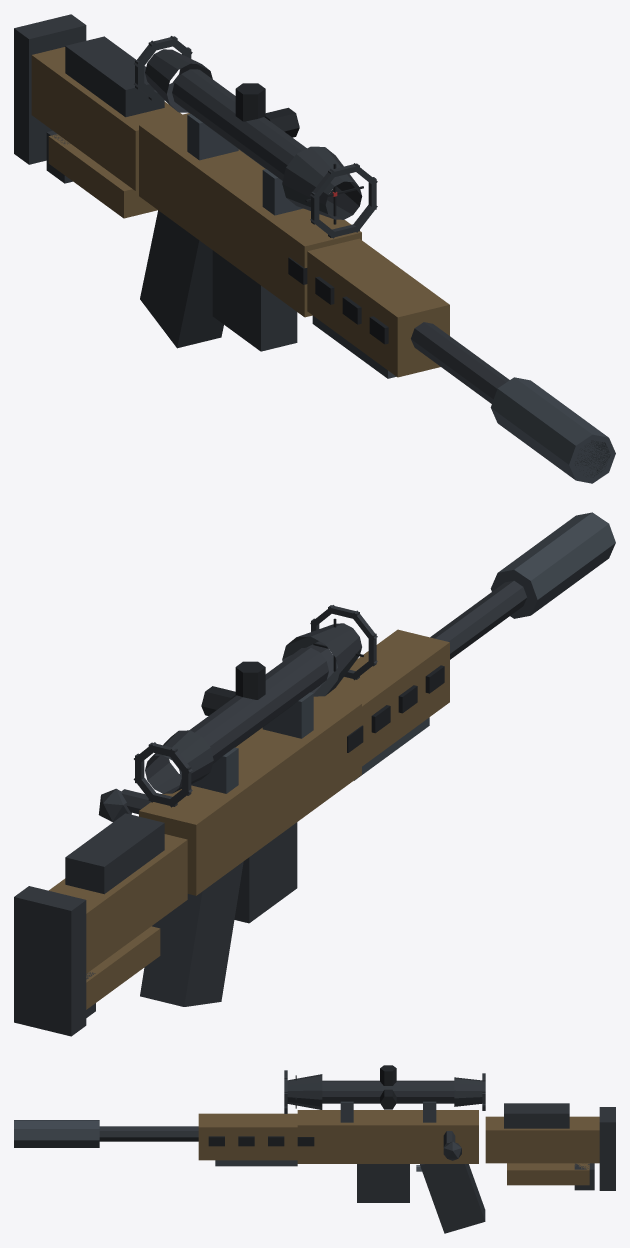
File: wpn_sniper.fbx
3 views of the same model, one above another, from view 1: azimuth 30°, elevation 25°; view 2: azimuth 150°, elevation 25°; view 3: azimuth 270°, elevation 25° (orthographic). The views are drawn at different scales.
Parts seen in each view (by area): view 1: wpn_sniper; view 2: wpn_sniper; view 3: wpn_sniper.
Boxes of the visible parts, x1,y1,x2,y2 form: wpn_sniper: (14,14,615,483); wpn_sniper: (14,512,615,1036); wpn_sniper: (14,1065,615,1233).
Size of the model in its own units: 47.23 by 107 by 365.
